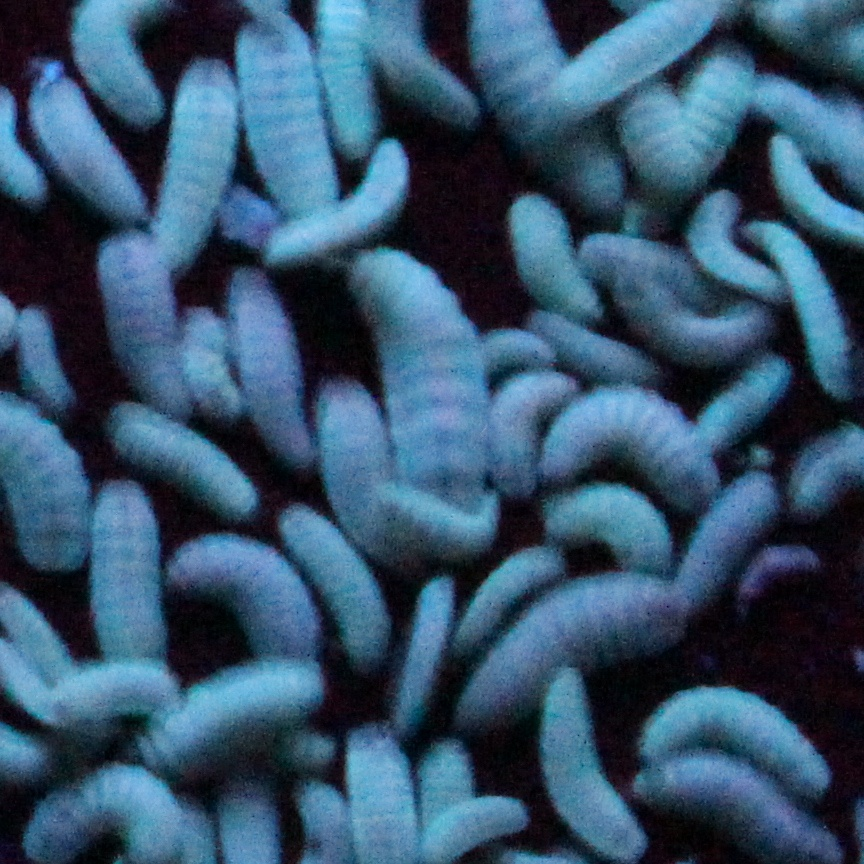larve: (339, 236, 503, 524), (468, 578, 696, 722), (267, 489, 406, 677), (531, 378, 728, 508), (642, 676, 845, 798), (87, 228, 202, 424), (538, 665, 652, 862), (145, 659, 338, 771), (164, 519, 316, 656), (23, 62, 146, 220), (262, 140, 418, 262), (107, 400, 262, 517), (80, 463, 170, 662), (500, 189, 608, 327), (228, 264, 306, 454), (307, 352, 388, 517), (530, 487, 664, 573), (682, 181, 769, 295), (679, 52, 757, 156), (13, 302, 76, 415)
